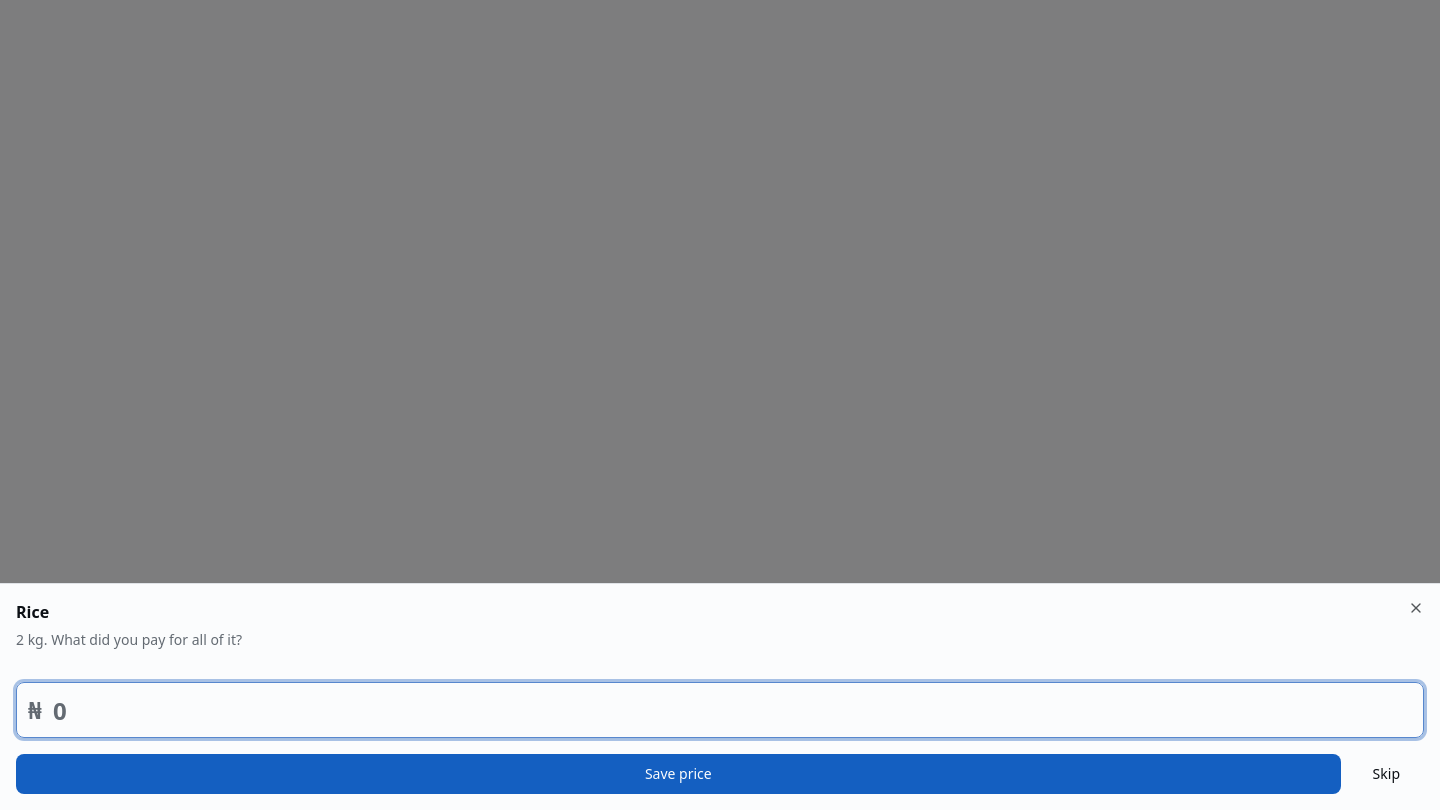
PricePromptSheet › rejects an amount that is not a number
This screenshot has width=1440, height=810.
Step 1. Type "abc" into the field named "Price paid" → (720, 710), box [16,682,1424,738]
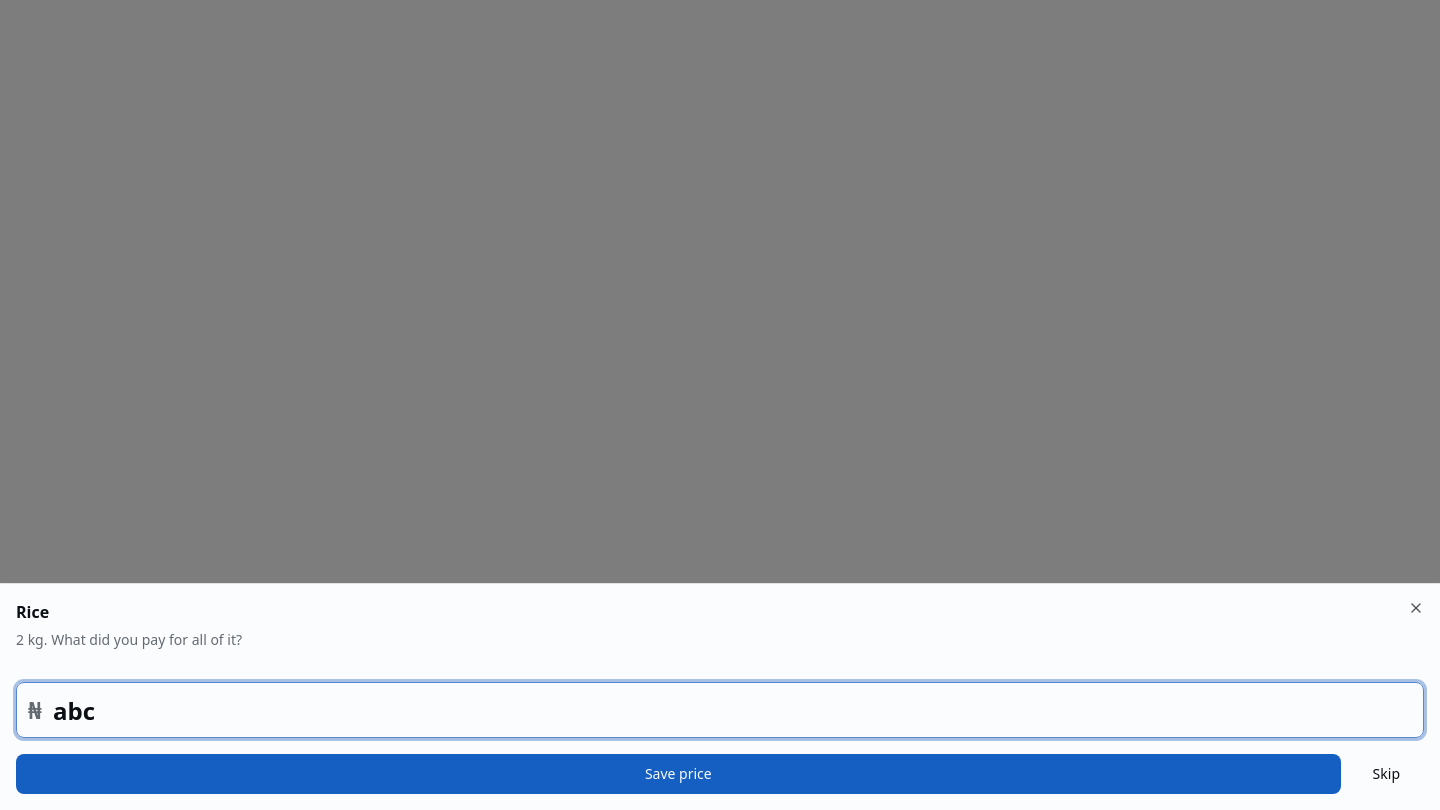
Step 2. Click the button "Save price" → (678, 774), box [16,754,1341,794]
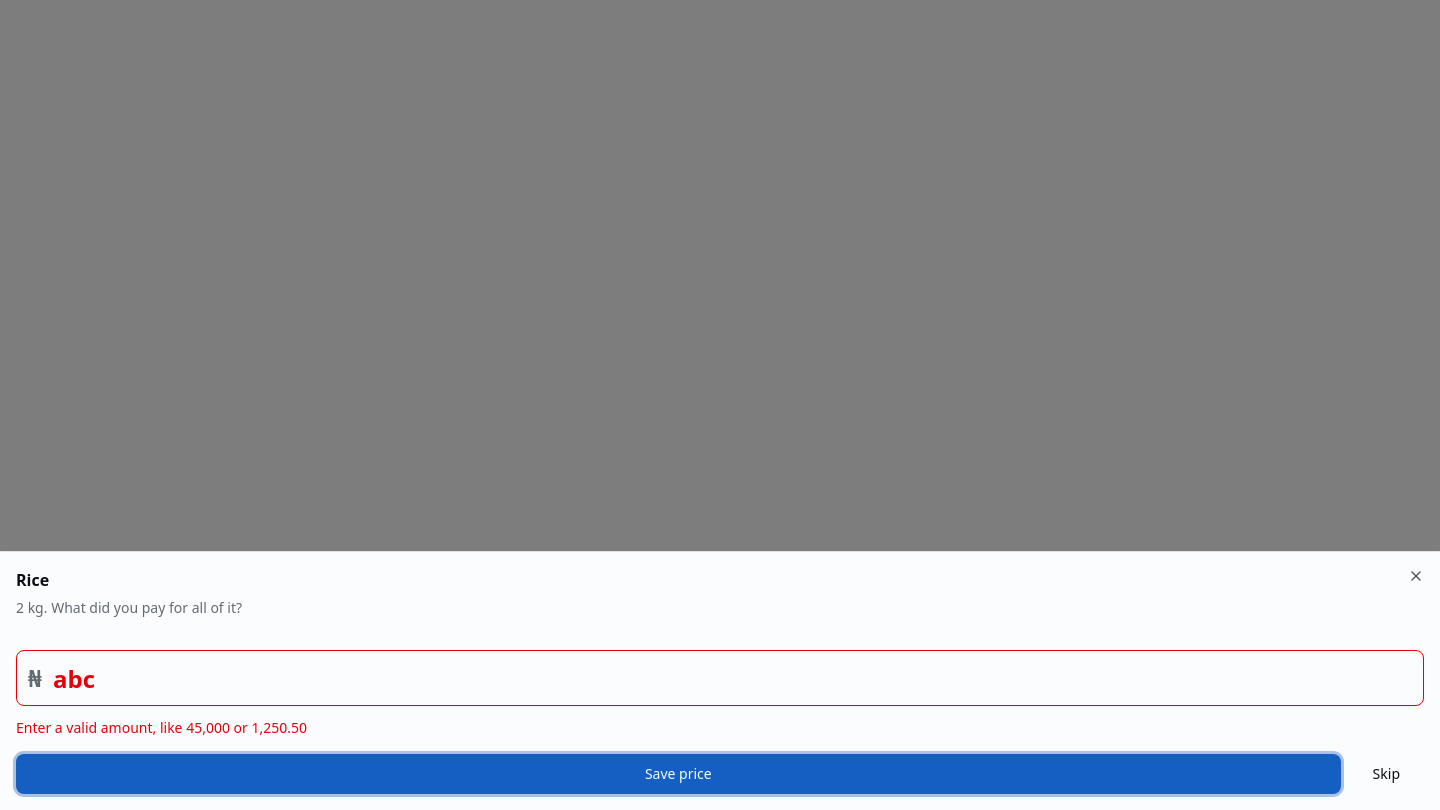
Check: the text "Enter a valid amount, like 45,000 or 1,250.50" is shown, box [16,718,307,737]
